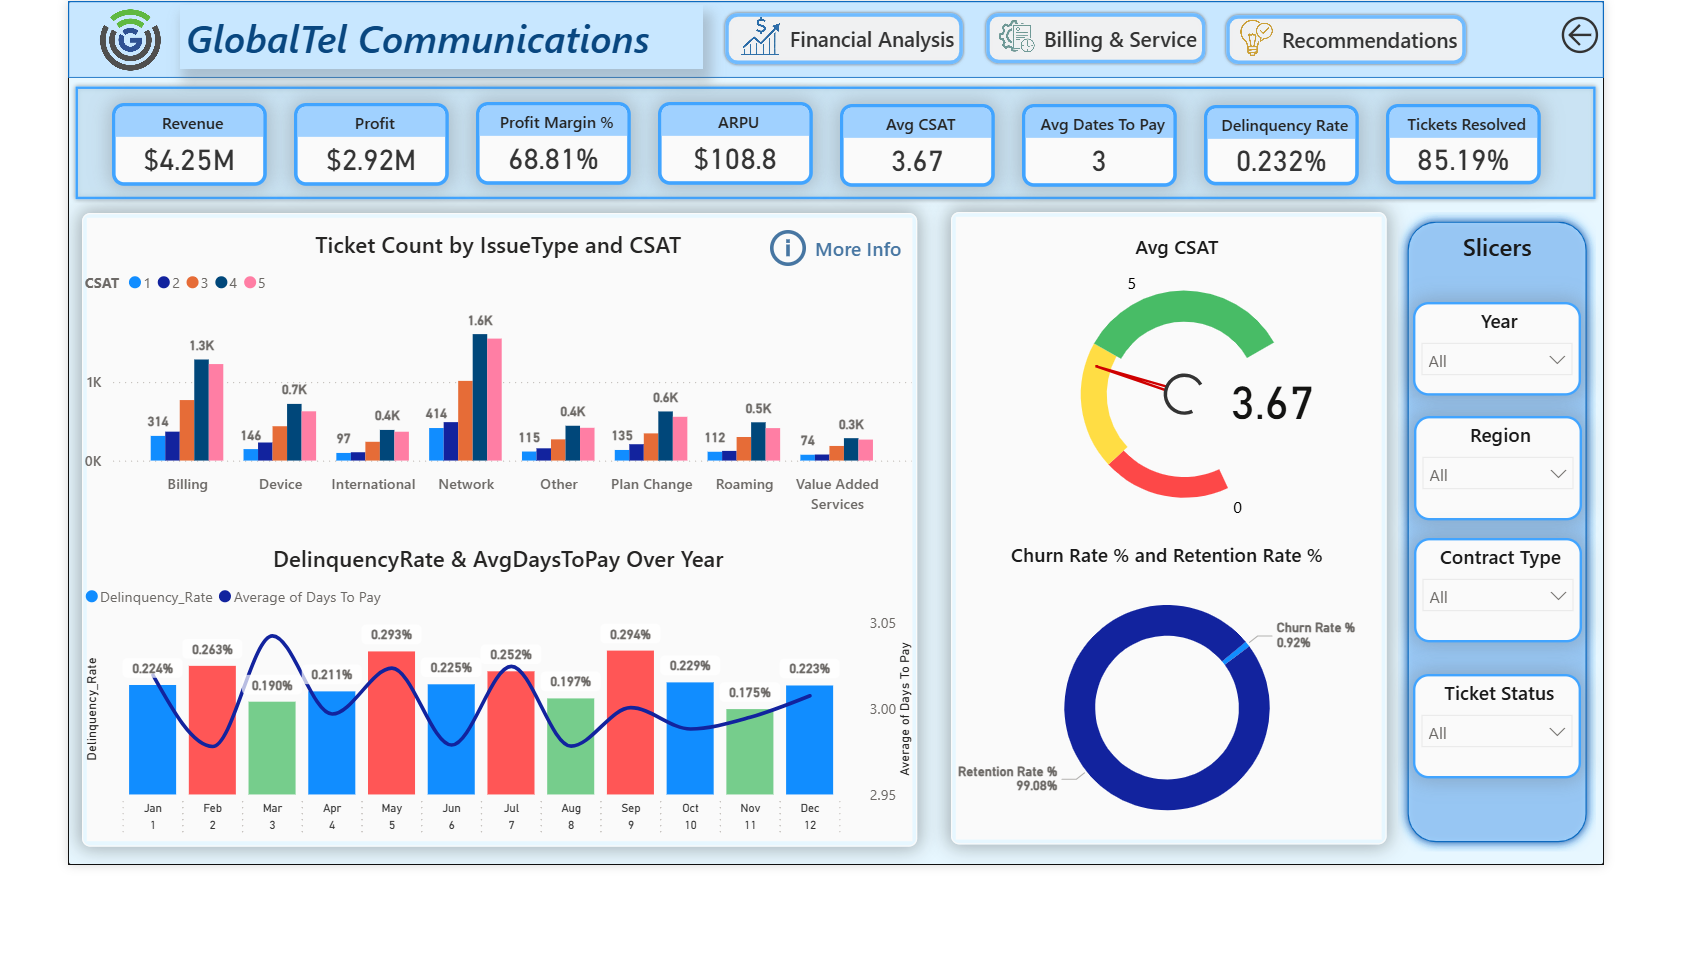

The dashboard page shown, as its layout file describes it:
{"tool":"powerbi","page":{"name":"Billing & Services","canvas":[1280,720],"ordinal":2},"visuals":[{"type":"shape","box":[735.7,175.7,362.9,527.1],"z":0},{"type":"shape","box":[11.2,176.2,696.2,527.5],"z":1000},{"type":"shape","box":[0,0,1280,64.3],"z":2000},{"type":"shape","box":[2.9,67.1,1274.3,101.4],"z":3000},{"type":"card","title":"Profit Margin %","fields":{"Values":["Measure Table.Profit Margin %"]},"box":[340,84.1,128.6,68.6],"z":4000},{"type":"card","title":"ARPU","fields":{"Values":["Measure Table.ARPU"]},"box":[491.6,84.5,128.6,68.6],"z":5000},{"type":"card","title":"Profit","fields":{"Values":["Measure Table.Total Profit"]},"box":[188.3,85,128.6,68.6],"z":6000},{"type":"card","title":"Revenue","fields":{"Values":["Measure Table.Total Revenue"]},"box":[36.7,85.4,128.6,68.6],"z":7000},{"type":"card","title":"Avg Dates To Pay","fields":{"Values":["Measure Table.Avg DaysToPay"]},"box":[794.9,85.8,128.6,68.6],"z":8000},{"type":"card","title":"Delinquency Rate","fields":{"Values":["Measure Table.Delinquency_Rate"]},"box":[946.5,86.6,128.6,67.1],"z":9000},{"type":"card","title":"Avg CSAT","fields":{"Values":["Measure Table.Avg CSAT"]},"box":[643.2,86.2,128.6,68.6],"z":10000},{"type":"card","title":"Tickets Resolved","fields":{"Values":["Measure Table.Tickets Resolved %"]},"box":[1098.1,85.6,128.6,67.1],"z":11000},{"type":"clusteredColumnChart","fields":{"Category":["Telecom_Tickets.IssueType"],"Y":["Measure Table.Ticket Count"],"Series":["Telecom_Tickets.CSAT"]},"box":[10,185.7,697.1,247.1],"z":12000},{"type":"lineStackedColumnComboChart","title":"DelinquencyRate & AvgDaysToPay Over Year","fields":{"Category":["Calendar Table.Month","Calendar Table.Month Name"],"Y":["Measure Table.Delinquency_Rate"],"Y2":["Avg(Telecom_Usage_Fact.Days To Pay)"]},"box":[10,447.1,697.1,255.7],"z":13000},{"type":"donutChart","fields":{"Y":["Measure Table.Churn Rate %","Measure Table.Retention Rate %"]},"box":[735.7,447.1,360,255.7],"z":14000},{"type":"shape","title":"Slicers","box":[1108.7,176.1,165.3,533.2],"z":15000},{"type":"slicer","title":"Year","fields":{"Values":["Calendar Table.Year"]},"box":[1120.8,250.9,139.9,78.4],"z":17000},{"type":"slicer","title":"Region","fields":{"Values":["Telecom_Customers.Region"]},"box":[1121.4,345.7,140,87.1],"z":18000},{"type":"slicer","title":"Contract Type","fields":{"Values":["Telecom_Usage_Fact.ContractType"]},"box":[1121.4,447.1,140,87.1],"z":19000},{"type":"Tachometer1474636471549","title":"Avg CSAT","fields":{"TargetValue":["Measure Table.Target CSAT"],"Y":["Measure Table.Avg CSAT"]},"box":[758.8,186.2,330,261.2],"z":20000},{"type":"cardVisual","fields":{"Data":["Measure Table.Avg CSAT"]},"box":[956.2,297.5,110,66.2],"z":21000},{"type":"actionButton","box":[580,185.7,118.6,40],"z":22000},{"type":"actionButton","box":[544.8,7.6,203.3,47.8],"z":23000},{"type":"actionButton","box":[762.7,7.8,188,47],"z":24000},{"type":"actionButton","box":[962.7,8.8,205,46],"z":25000},{"type":"image","box":[514.8,-0.1,116.7,63.3],"z":26000},{"type":"image","box":[941.7,2.8,76,63],"z":27000},{"type":"image","box":[762.7,2.8,56,58],"z":28000},{"type":"actionButton","box":[1173.8,7.7,106.2,41.5],"z":29000},{"type":"slicer","title":"Ticket Status","fields":{"Values":["Telecom_Tickets.Ticket Status"]},"box":[1120.8,561,139.9,86.9],"z":30000},{"type":"image","box":[0,0,104.3,65.7],"z":31000},{"type":"textbox","box":[93.4,3.6,436.2,53.1],"z":32000}]}

Visuals, with their boxes in screenshot pixels (x1, y1, x2, y2), scaled from the page's 1280x720 canvas onto the 1683x965 screenshot:
shape: <region>967, 235, 1444, 942</region>
shape: <region>15, 236, 930, 943</region>
shape: <region>0, 0, 1682, 86</region>
shape: <region>4, 90, 1679, 226</region>
"Profit Margin %" card: <region>447, 113, 616, 205</region>
"ARPU" card: <region>646, 113, 815, 205</region>
"Profit" card: <region>248, 114, 417, 206</region>
"Revenue" card: <region>48, 114, 217, 206</region>
"Avg Dates To Pay" card: <region>1045, 115, 1214, 207</region>
"Delinquency Rate" card: <region>1244, 116, 1414, 206</region>
"Avg CSAT" card: <region>846, 116, 1015, 207</region>
"Tickets Resolved" card: <region>1444, 115, 1613, 205</region>
clusteredColumnChart - Telecom_Tickets.IssueType x Measure Table.Ticket Count: <region>13, 249, 930, 580</region>
"DelinquencyRate & AvgDaysToPay Over Year" lineStackedColumnComboChart: <region>13, 599, 930, 942</region>
donutChart - Measure Table.Churn Rate % x Measure Table.Retention Rate %: <region>967, 599, 1441, 942</region>
"Slicers" shape: <region>1458, 236, 1675, 951</region>
"Year" slicer: <region>1474, 336, 1658, 441</region>
"Region" slicer: <region>1474, 463, 1659, 580</region>
"Contract Type" slicer: <region>1474, 599, 1659, 716</region>
"Avg CSAT" Tachometer1474636471549: <region>998, 250, 1432, 600</region>
cardVisual - Measure Table.Avg CSAT: <region>1257, 399, 1402, 487</region>
actionButton: <region>763, 249, 919, 303</region>
actionButton: <region>716, 10, 984, 74</region>
actionButton: <region>1003, 10, 1250, 73</region>
actionButton: <region>1266, 12, 1535, 73</region>
image: <region>677, 0, 830, 85</region>
image: <region>1238, 4, 1338, 88</region>
image: <region>1003, 4, 1076, 81</region>
actionButton: <region>1543, 10, 1682, 66</region>
"Ticket Status" slicer: <region>1474, 752, 1658, 868</region>
image: <region>0, 0, 137, 88</region>
textbox: <region>123, 5, 696, 76</region>
